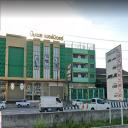speed_limit_100: (116, 60, 122, 71)
speed_limit_120: (116, 51, 122, 62)
speed_limit_80: (117, 80, 123, 90)
speed_limit_90: (116, 70, 122, 80)
